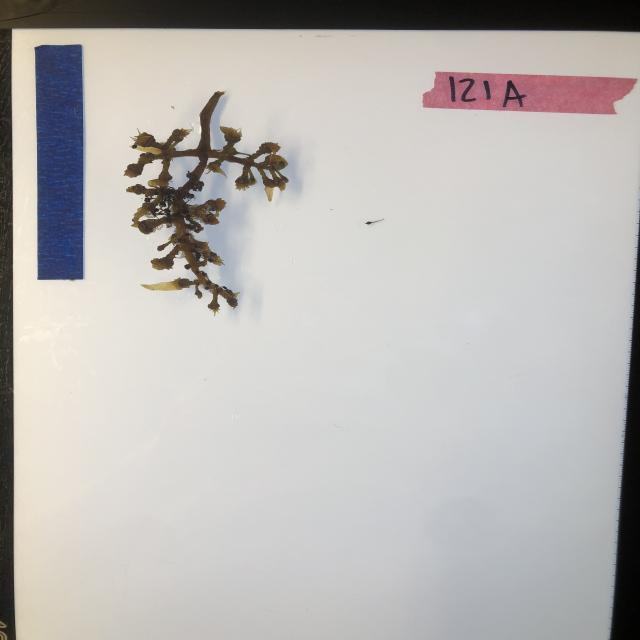index: (422, 70, 637, 119)
measure_label: (32, 40, 89, 282)
rachis_cluster: (119, 89, 290, 320)
